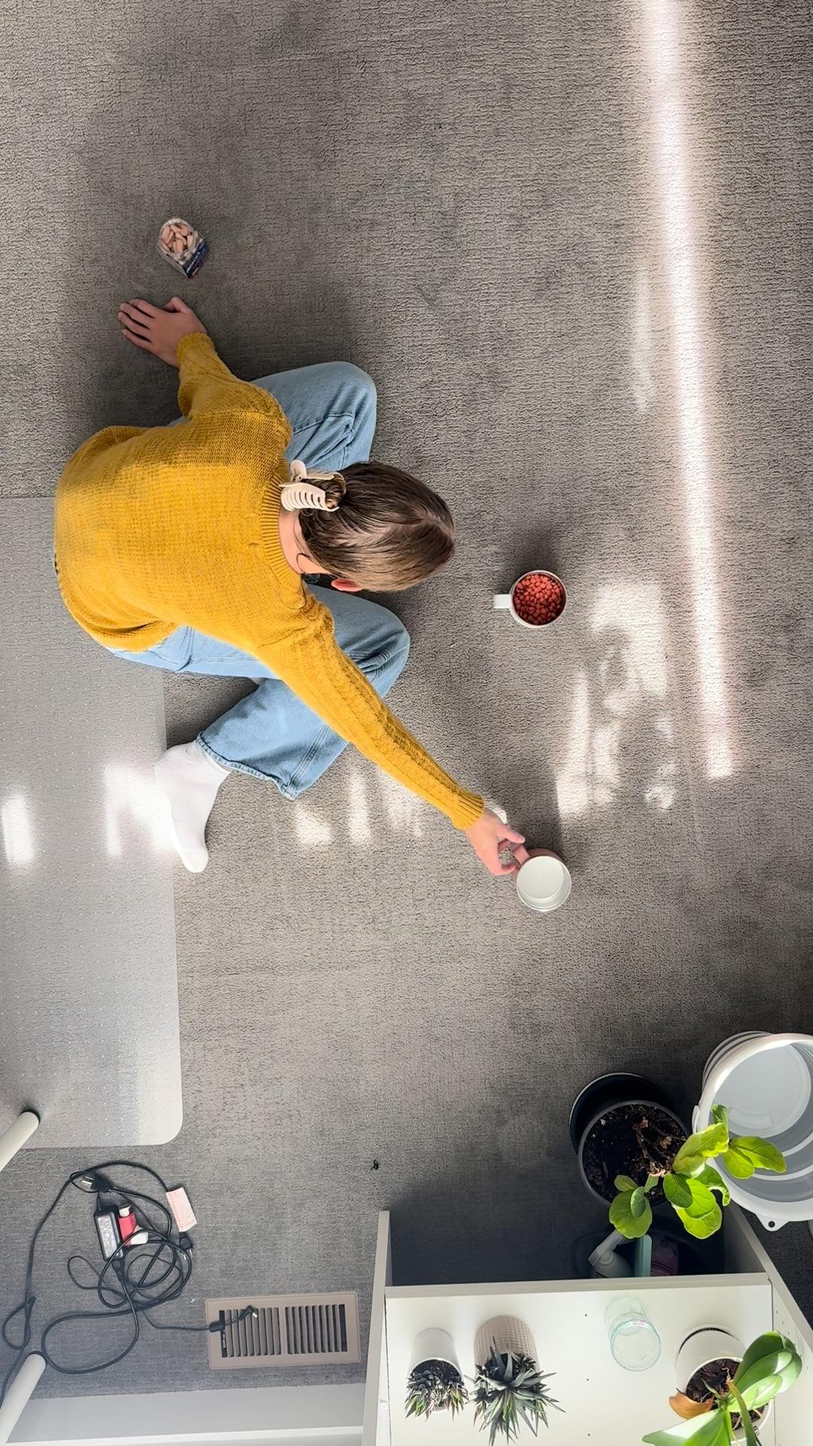IBC: (497, 828, 583, 927), (494, 552, 579, 638)
